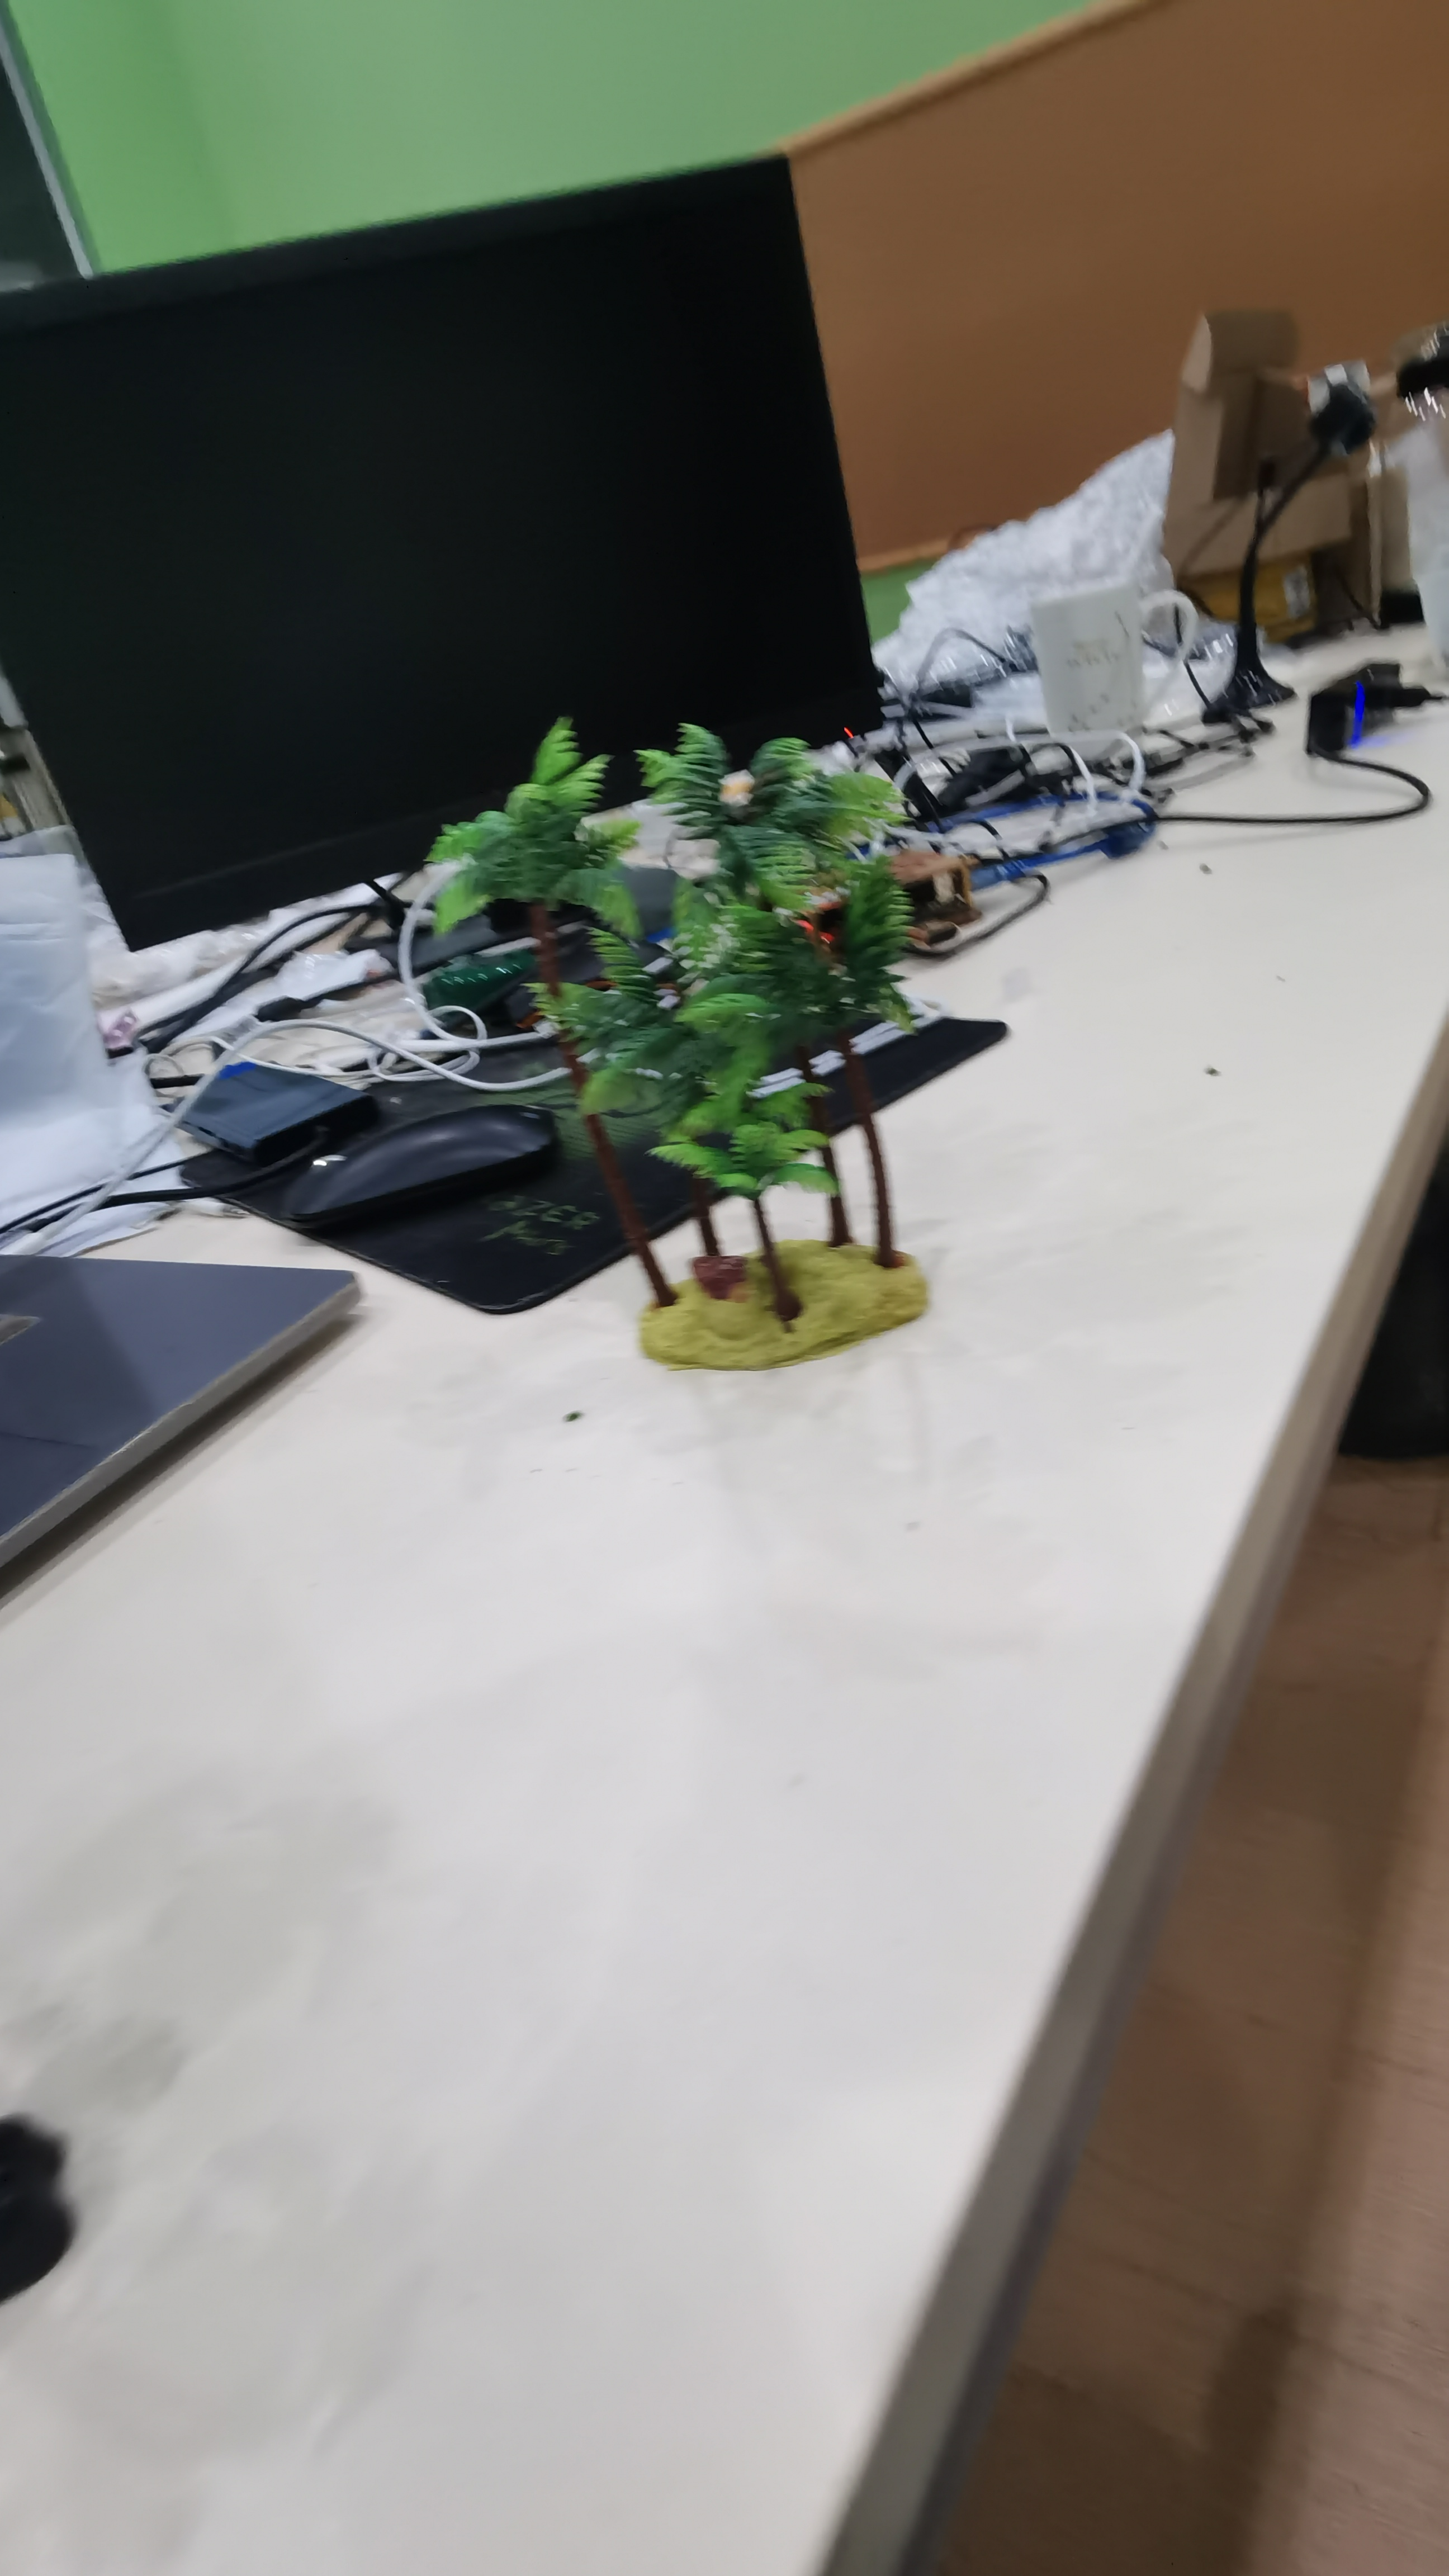corn: (413, 701, 949, 1352)
